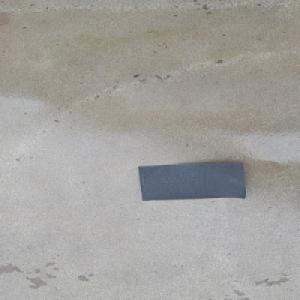PaintChip: (137, 161, 245, 200)
